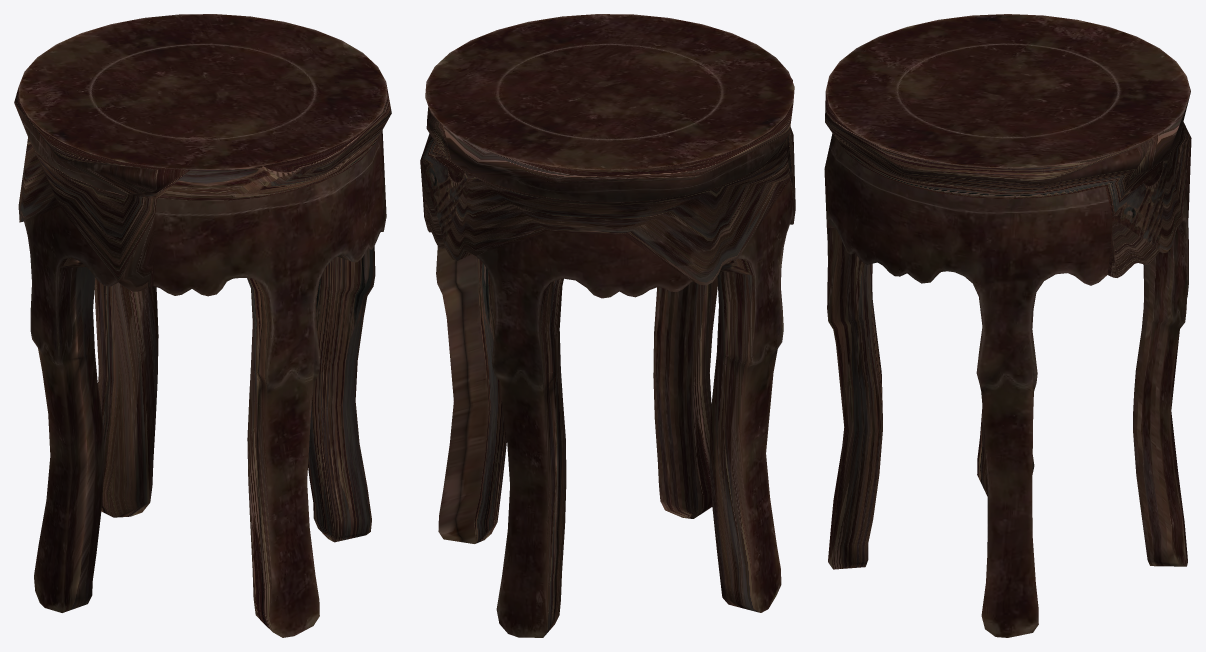
Rendered from WoodenTable_02.glb.
3 views of the same model, side by side, from view 1: azimuth 30°, elevation 25°; view 2: azimuth 150°, elevation 25°; view 3: azimuth 270°, elevation 25° (orthographic).
Visible parts, largest first — view 1: WoodenTable_02; view 2: WoodenTable_02; view 3: WoodenTable_02.
Boxes of the visible parts, x1=… form: WoodenTable_02: x1=14, y1=14, x2=391, y2=637; WoodenTable_02: x1=420, y1=14, x2=795, y2=637; WoodenTable_02: x1=824, y1=14, x2=1191, y2=637.
Bounding box in the file's own units: 0.2949 × 0.4177 × 0.2949.
1 material, 1 textured.
